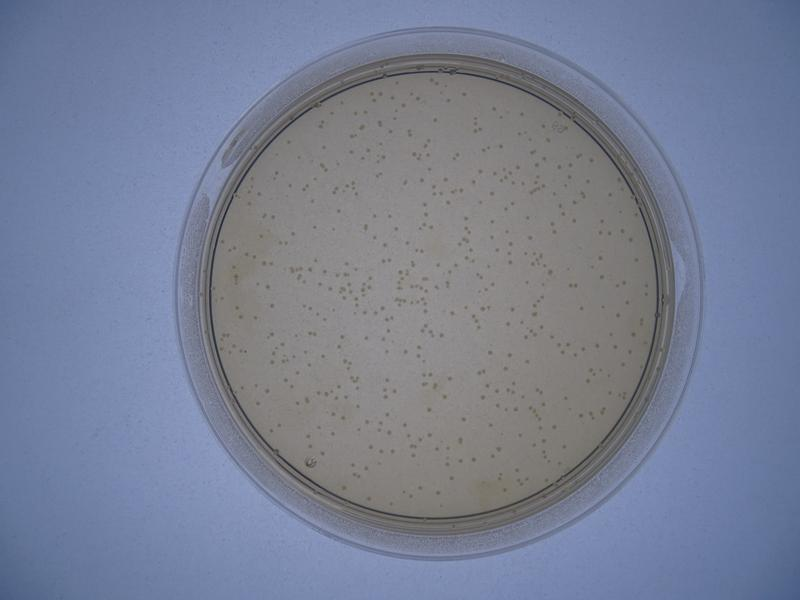colony: (442, 307, 460, 321), (437, 171, 452, 187), (314, 139, 334, 151), (246, 309, 263, 323), (484, 214, 502, 227), (287, 226, 301, 242), (326, 428, 342, 441), (559, 388, 572, 404), (501, 348, 518, 360), (432, 486, 446, 500), (283, 180, 298, 193), (264, 299, 279, 312), (632, 253, 645, 268), (331, 206, 347, 218), (482, 346, 498, 358), (497, 364, 513, 376), (523, 229, 536, 243), (385, 442, 398, 456), (338, 480, 351, 494), (306, 222, 322, 233), (561, 439, 574, 452), (383, 426, 396, 439), (413, 480, 426, 493), (262, 279, 274, 293), (398, 344, 412, 356), (289, 397, 303, 409), (261, 383, 275, 395), (408, 448, 420, 462), (344, 144, 356, 158), (378, 332, 389, 347), (438, 327, 449, 342), (456, 87, 469, 99), (335, 329, 347, 342), (367, 209, 379, 222), (502, 316, 515, 328), (458, 414, 471, 426), (594, 227, 606, 240), (426, 113, 440, 124), (474, 167, 488, 178), (361, 334, 375, 345), (621, 295, 632, 309), (458, 213, 473, 223), (382, 211, 397, 221), (627, 329, 639, 341), (382, 407, 394, 419), (580, 374, 592, 386), (416, 198, 429, 209), (590, 339, 603, 350), (439, 392, 452, 403), (486, 184, 497, 197), (486, 449, 497, 462), (446, 471, 457, 484), (328, 408, 339, 421), (300, 429, 313, 440), (454, 456, 468, 466), (550, 418, 560, 432), (595, 272, 606, 284), (368, 231, 380, 242), (317, 350, 329, 361), (521, 210, 532, 222), (493, 244, 505, 255), (484, 418, 495, 430), (339, 255, 350, 267), (363, 441, 375, 452), (362, 463, 373, 475), (431, 445, 442, 457), (537, 434, 549, 445), (545, 216, 557, 227), (599, 300, 609, 313), (484, 231, 497, 241), (302, 360, 316, 369), (521, 278, 535, 287), (576, 303, 587, 314), (393, 223, 404, 234), (416, 173, 427, 184), (401, 237, 412, 248), (432, 259, 443, 270), (468, 453, 479, 464), (477, 391, 488, 402), (627, 233, 638, 244), (517, 107, 528, 118), (522, 356, 532, 368), (604, 329, 616, 339), (423, 404, 435, 414), (616, 223, 626, 235), (444, 371, 454, 383), (509, 464, 521, 474), (514, 428, 523, 441), (489, 101, 498, 114), (329, 221, 337, 235), (503, 227, 513, 238), (578, 343, 588, 354), (610, 342, 621, 352), (400, 419, 411, 429), (550, 228, 561, 238), (506, 258, 516, 268), (595, 251, 604, 262), (508, 303, 517, 314), (351, 401, 362, 410), (319, 265, 328, 276), (614, 308, 622, 320), (381, 240, 389, 252), (443, 199, 452, 209), (383, 374, 392, 384), (315, 279, 324, 289), (506, 238, 514, 249), (422, 211, 430, 220)
